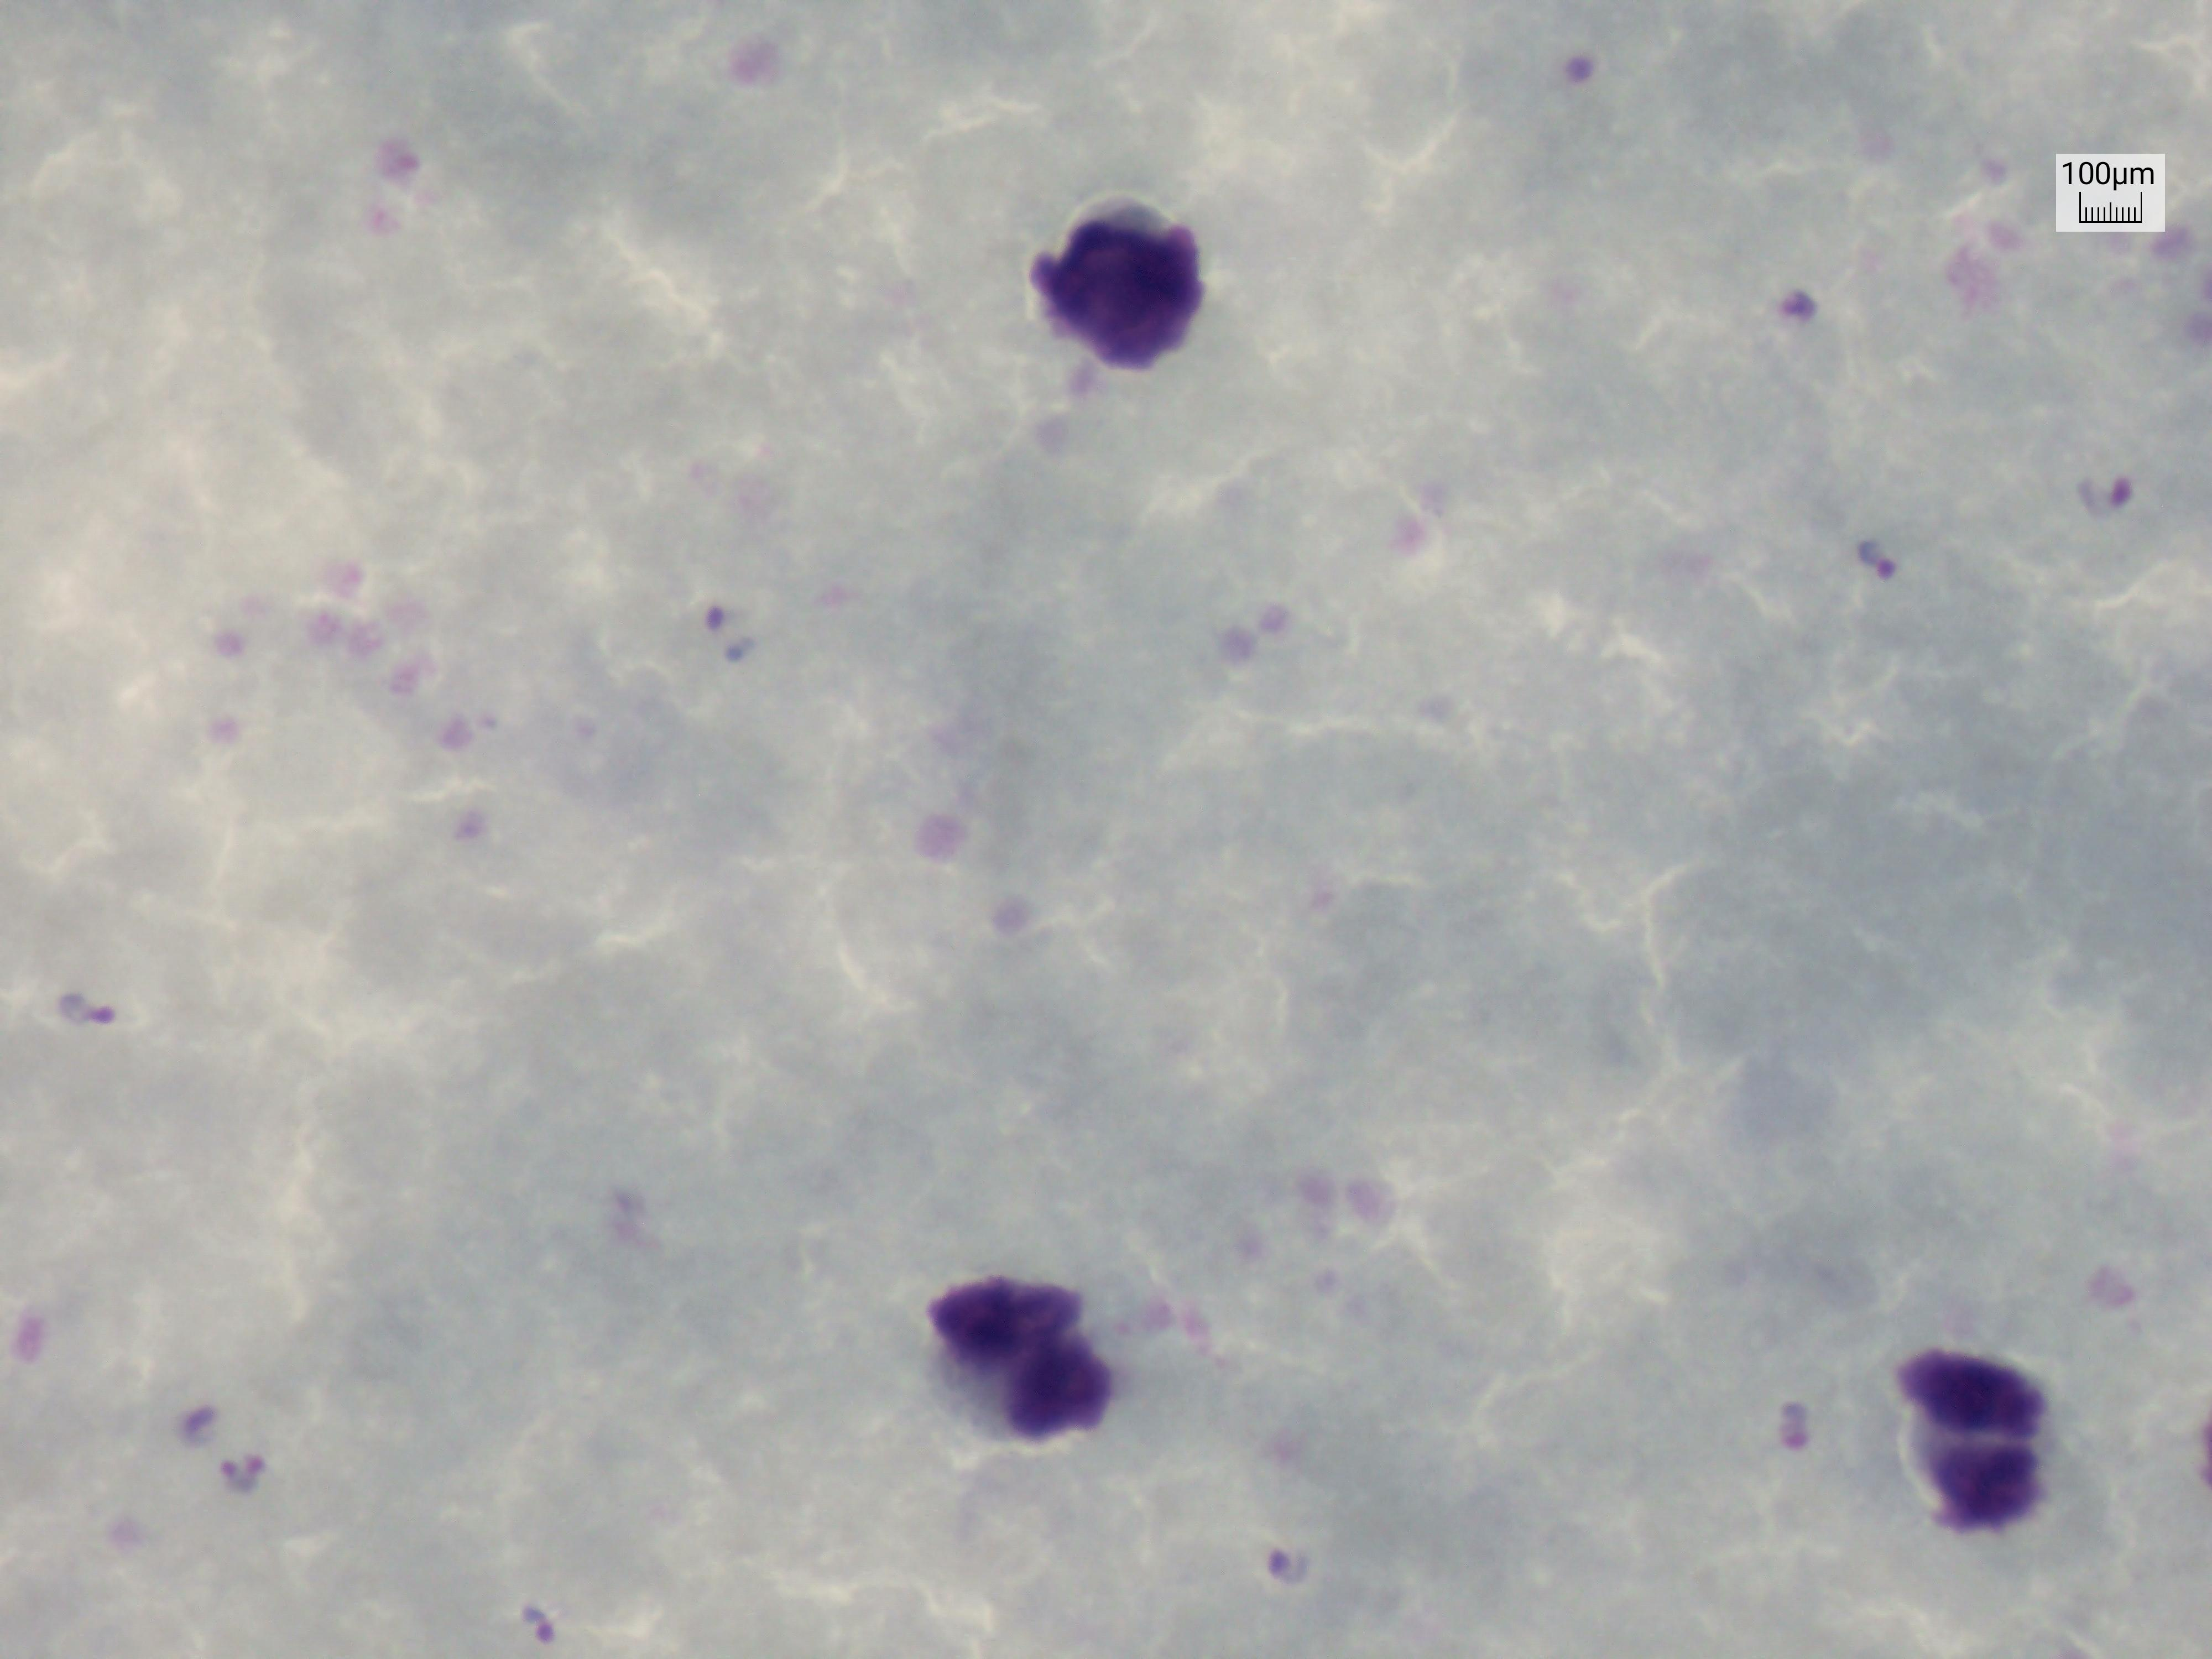p.falciparum: (199, 1432, 310, 1544), (1831, 502, 1923, 624), (1756, 267, 1846, 371), (51, 974, 145, 1073), (1756, 1385, 1827, 1502), (686, 582, 759, 692), (1247, 1530, 1341, 1615), (2067, 455, 2153, 542), (507, 1588, 573, 1659)
